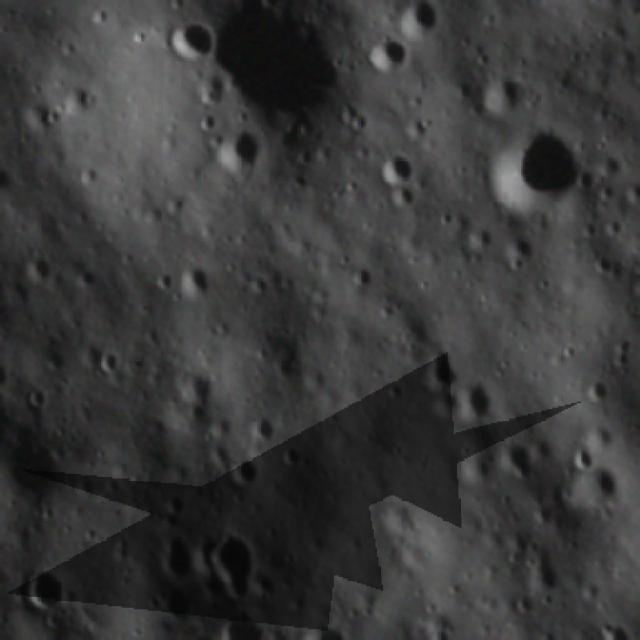crater: (204, 0, 344, 118), (486, 122, 588, 216), (5, 423, 61, 509), (208, 528, 263, 588), (213, 128, 270, 178), (153, 527, 202, 576), (166, 16, 217, 58), (19, 565, 70, 606), (480, 64, 525, 110), (372, 32, 416, 79), (583, 463, 623, 514), (524, 554, 568, 598), (59, 82, 104, 124), (422, 344, 462, 390), (501, 227, 542, 271), (456, 380, 496, 425), (401, 0, 447, 38), (224, 448, 262, 490), (499, 436, 536, 478), (18, 97, 62, 132), (377, 149, 418, 186), (460, 218, 498, 255), (342, 99, 375, 139), (176, 260, 210, 297), (248, 407, 282, 444), (90, 342, 122, 381), (24, 250, 56, 287), (583, 374, 617, 406), (572, 441, 596, 476), (280, 437, 305, 468)
